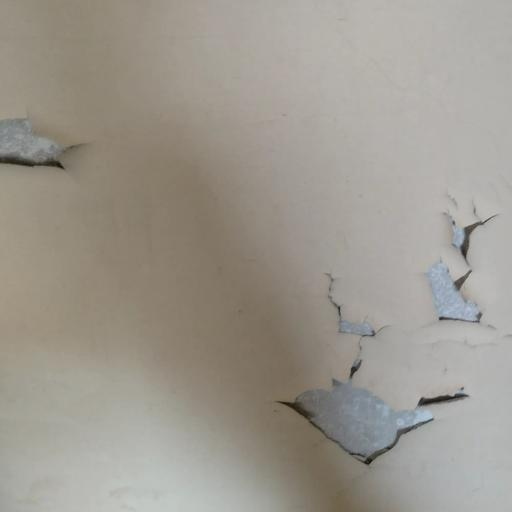peeling: (277, 172, 512, 487), (0, 106, 86, 193)
